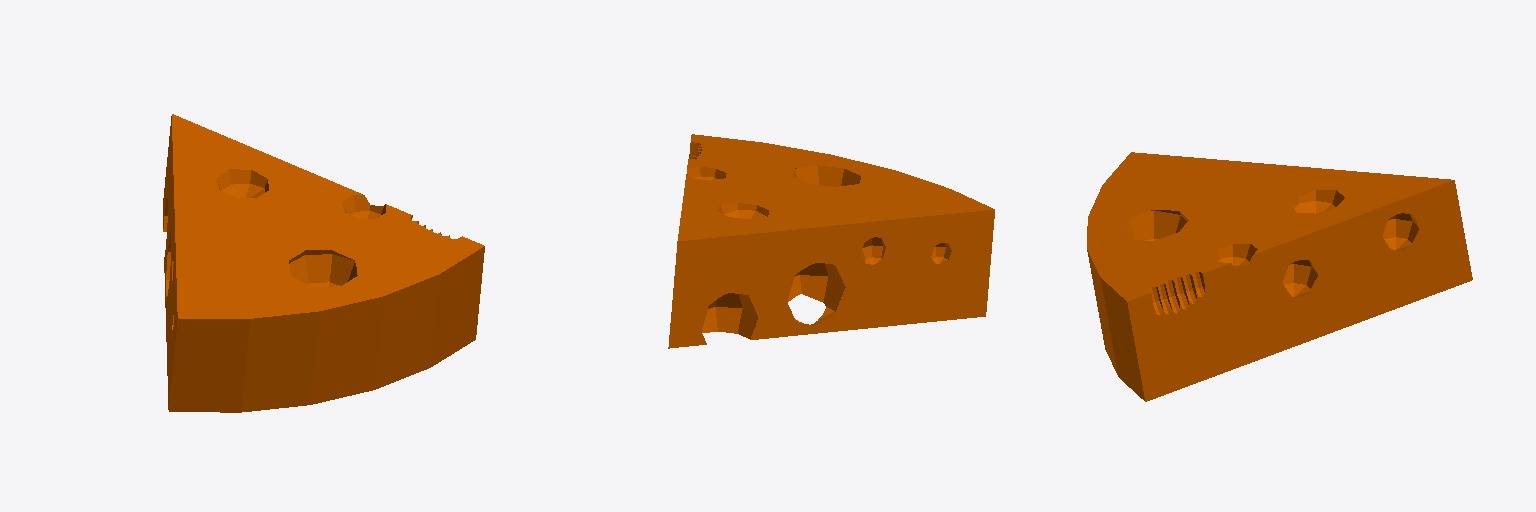
Rendered from cheese_basic.sgm.obj.
The picture shows the model from 3 angles: view 1: azimuth 30°, elevation 25°; view 2: azimuth 150°, elevation 25°; view 3: azimuth 270°, elevation 25°; orthographic projection.
Parts seen in each view (by area): view 1: 0; view 2: 0; view 3: 0.
Boxes of the visible parts, box(x1,y1,x2,y2) form: 0: box(163, 114, 484, 412); 0: box(668, 134, 994, 348); 0: box(1087, 152, 1472, 401).
Size of the model in its own units: 0.661 by 0.3212 by 0.7234.